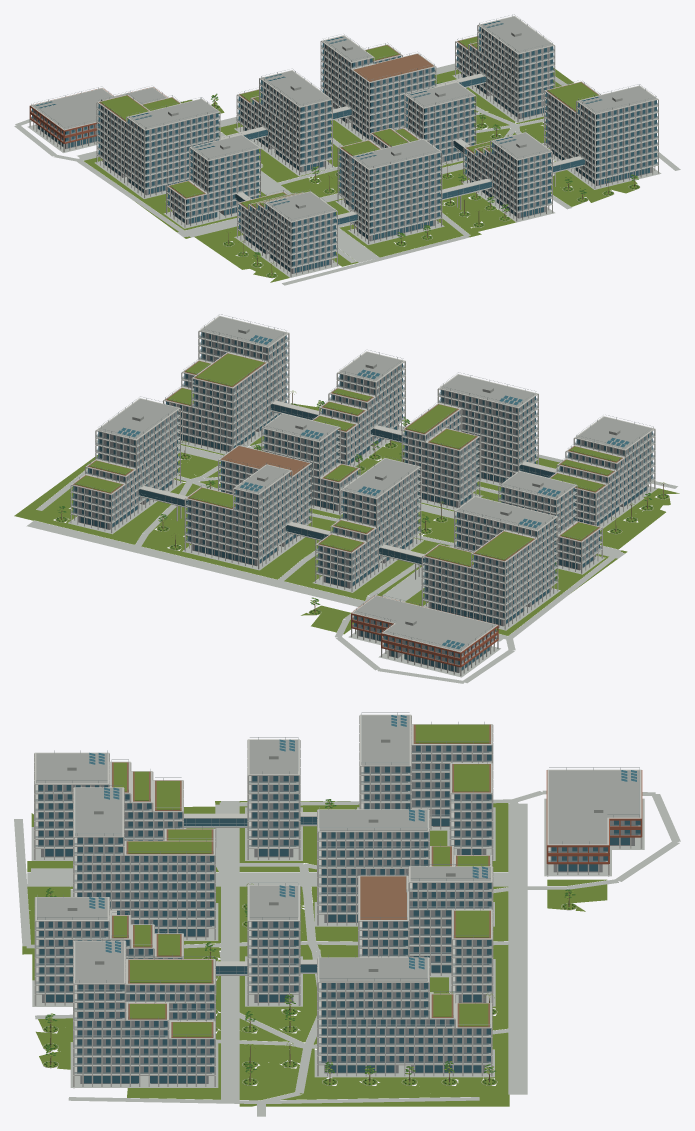
Rendered from dorm56-lod2.glb.
The picture shows the model from 3 angles, top to bottom: view 1: azimuth 30°, elevation 25°; view 2: azimuth 150°, elevation 25°; view 3: azimuth 270°, elevation 25°; orthographic projection. The views are drawn at different scales.
Parts seen in each view (by area): view 1: projecting white floor bands | ivory metal.002, recessed grey dormitory walls | grey tile.002, blue recessed room windows | window.002, transparent balcony guards | glass rail.002, flat roofs and service enclosures | roof.002, courtyard and perimeter planted lawns | lawn.002, continuous courtyard paving | pale paving.002, terrace planted beds | lawn.002, window mullions and balcony rails | metal frame.002, terrace red paving | terrace pavers.002, elevated glass link decks and roof | ivory metal.002, glazed link curtain wall | window.002 (+3 smaller); view 2: projecting white floor bands | ivory metal.002, recessed grey dormitory walls | grey tile.002, blue recessed room windows | window.002, transparent balcony guards | glass rail.002, flat roofs and service enclosures | roof.002, courtyard and perimeter planted lawns | lawn.002, continuous courtyard paving | pale paving.002, terrace planted beds | lawn.002, window mullions and balcony rails | metal frame.002, terrace red paving | terrace pavers.002, red brick service building piers | brick.002, glazed link curtain wall | window.002 (+1 smaller); view 3: projecting white floor bands | ivory metal.002, blue recessed room windows | window.002, recessed grey dormitory walls | grey tile.002, continuous courtyard paving | pale paving.002, courtyard and perimeter planted lawns | lawn.002, flat roofs and service enclosures | roof.002, transparent balcony guards | glass rail.002, terrace planted beds | lawn.002, window mullions and balcony rails | metal frame.002, terrace red paving | terrace pavers.002, red brick service building piers | brick.002, glazed link curtain wall | window.002 (+3 smaller).
Part boxes in pixels (x1=…): projecting white floor bands | ivory metal.002: x1=29, y1=16, x2=658, y2=276; recessed grey dormitory walls | grey tile.002: x1=35, y1=29, x2=654, y2=273; blue recessed room windows | window.002: x1=32, y1=21, x2=656, y2=272; transparent balcony guards | glass rail.002: x1=30, y1=29, x2=657, y2=267; flat roofs and service enclosures | roof.002: x1=32, y1=16, x2=656, y2=221; courtyard and perimeter planted lawns | lawn.002: x1=84, y1=67, x2=639, y2=282; continuous courtyard paving | pale paving.002: x1=14, y1=63, x2=680, y2=285; terrace planted beds | lawn.002: x1=100, y1=37, x2=598, y2=208; window mullions and balcony rails | metal frame.002: x1=31, y1=14, x2=657, y2=264; terrace red paving | terrace pavers.002: x1=99, y1=36, x2=598, y2=209; elevated glass link decks and roof | ivory metal.002: x1=219, y1=73, x2=583, y2=226; glazed link curtain wall | window.002: x1=235, y1=76, x2=584, y2=224; projecting white floor bands | ivory metal.002: x1=70, y1=315, x2=655, y2=676; recessed grey dormitory walls | grey tile.002: x1=74, y1=332, x2=651, y2=672; blue recessed room windows | window.002: x1=73, y1=332, x2=652, y2=671; transparent balcony guards | glass rail.002: x1=71, y1=335, x2=654, y2=665; flat roofs and service enclosures | roof.002: x1=98, y1=316, x2=652, y2=651; courtyard and perimeter planted lawns | lawn.002: x1=14, y1=403, x2=679, y2=635; continuous courtyard paving | pale paving.002: x1=26, y1=425, x2=677, y2=683; terrace planted beds | lawn.002: x1=75, y1=353, x2=620, y2=566; window mullions and balcony rails | metal frame.002: x1=72, y1=314, x2=654, y2=663; terrace red paving | terrace pavers.002: x1=73, y1=353, x2=622, y2=567; red brick service building piers | brick.002: x1=351, y1=596, x2=498, y2=667; glazed link curtain wall | window.002: x1=138, y1=404, x2=554, y2=564; projecting white floor bands | ivory metal.002: x1=34, y1=714, x2=642, y2=1088; blue recessed room windows | window.002: x1=38, y1=715, x2=640, y2=1083; recessed grey dormitory walls | grey tile.002: x1=38, y1=745, x2=637, y2=1083; continuous courtyard paving | pale paving.002: x1=14, y1=790, x2=680, y2=1116; courtyard and perimeter planted lawns | lawn.002: x1=22, y1=801, x2=607, y2=1106; flat roofs and service enclosures | roof.002: x1=36, y1=715, x2=639, y2=982; transparent balcony guards | glass rail.002: x1=35, y1=751, x2=640, y2=1074; terrace planted beds | lawn.002: x1=113, y1=724, x2=489, y2=1036; window mullions and balcony rails | metal frame.002: x1=36, y1=712, x2=640, y2=1072; terrace red paving | terrace pavers.002: x1=112, y1=724, x2=490, y2=1037; red brick service building piers | brick.002: x1=546, y1=770, x2=642, y2=864; glazed link curtain wall | window.002: x1=184, y1=817, x2=317, y2=974.
Size of the model in its own units: 260 by 40.17 by 225.
